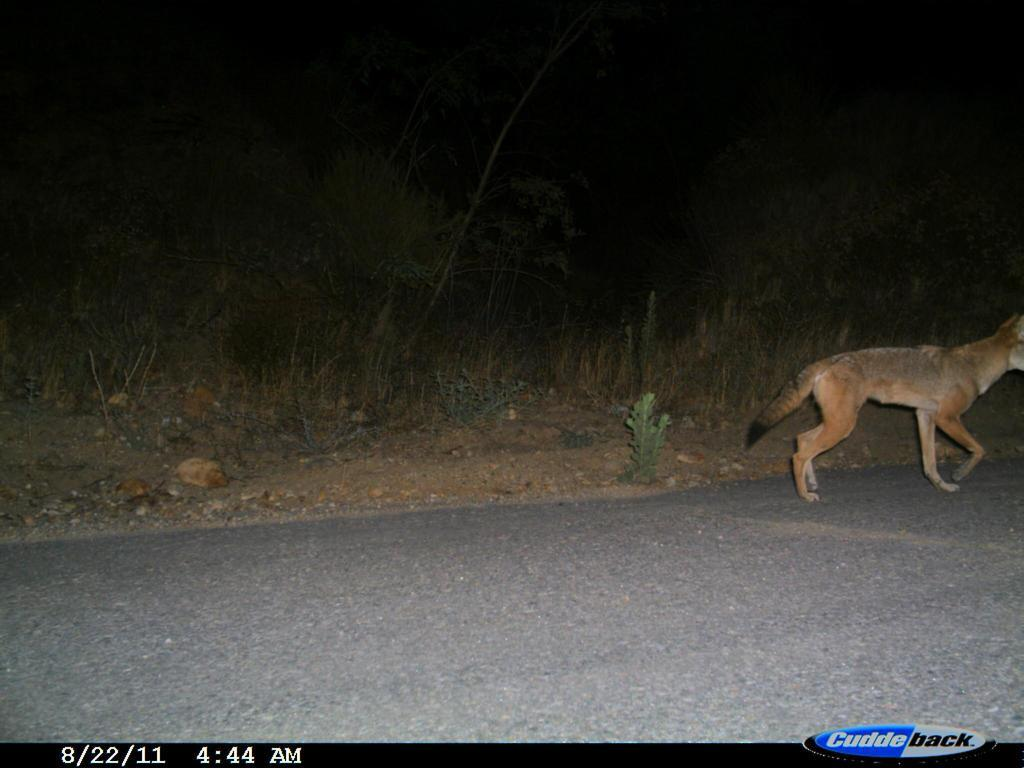coyote: (740, 304, 1023, 506)
